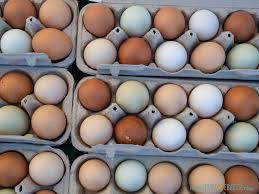egg: (30, 150, 69, 191), (31, 28, 72, 61), (78, 157, 113, 194), (76, 113, 114, 147), (29, 104, 67, 138), (116, 112, 150, 148), (191, 118, 224, 155), (146, 161, 182, 194), (190, 41, 228, 72), (82, 2, 116, 36), (227, 120, 259, 156), (226, 82, 258, 118), (190, 84, 223, 118), (116, 80, 150, 113), (114, 158, 147, 192), (77, 79, 111, 112), (155, 6, 188, 40), (188, 6, 222, 39), (119, 5, 153, 37), (2, 149, 29, 189), (226, 162, 259, 194), (0, 70, 31, 104), (188, 164, 224, 193), (155, 40, 188, 71), (83, 38, 117, 68), (38, 0, 74, 28), (33, 72, 65, 102), (118, 38, 152, 66), (1, 105, 28, 140), (226, 10, 258, 39), (230, 40, 258, 70), (4, 0, 36, 26), (0, 29, 32, 54)
